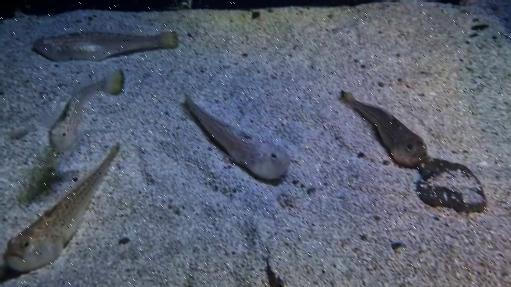Fish: (2, 142, 119, 272), (185, 95, 290, 180), (340, 91, 429, 168), (48, 70, 123, 152), (33, 31, 178, 61), (265, 257, 280, 286)
